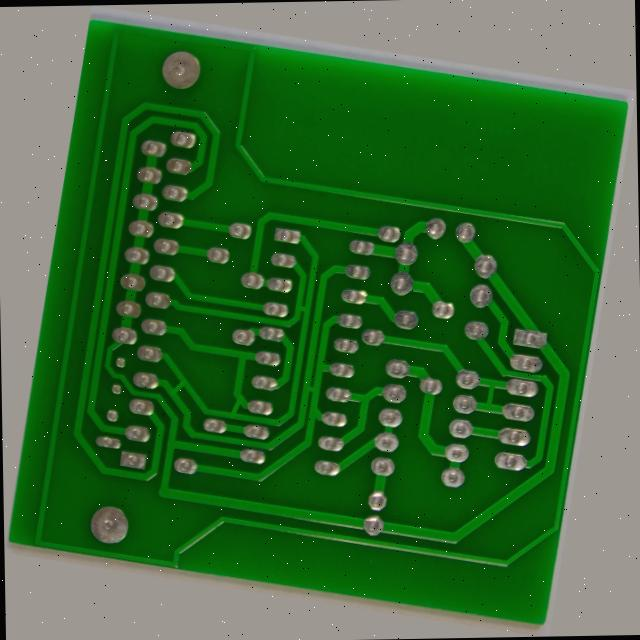short: (520, 347, 541, 398), (158, 405, 186, 443), (229, 416, 253, 453), (311, 391, 337, 409), (286, 300, 308, 321)
